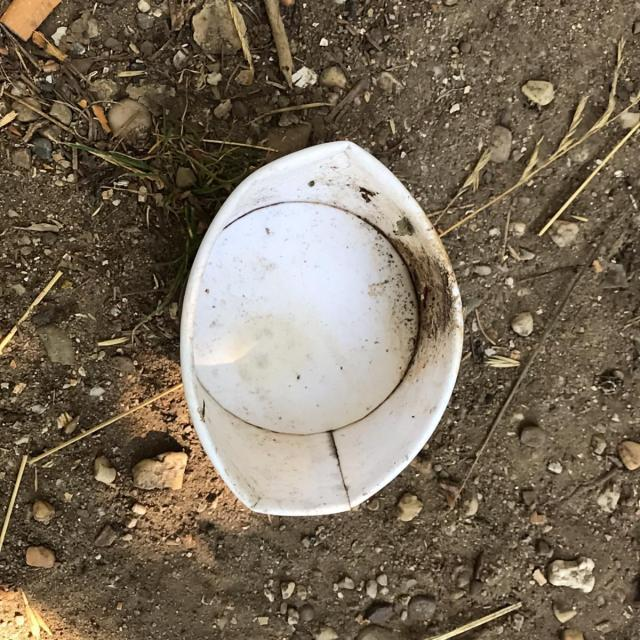Paper: (180, 140, 465, 522)
